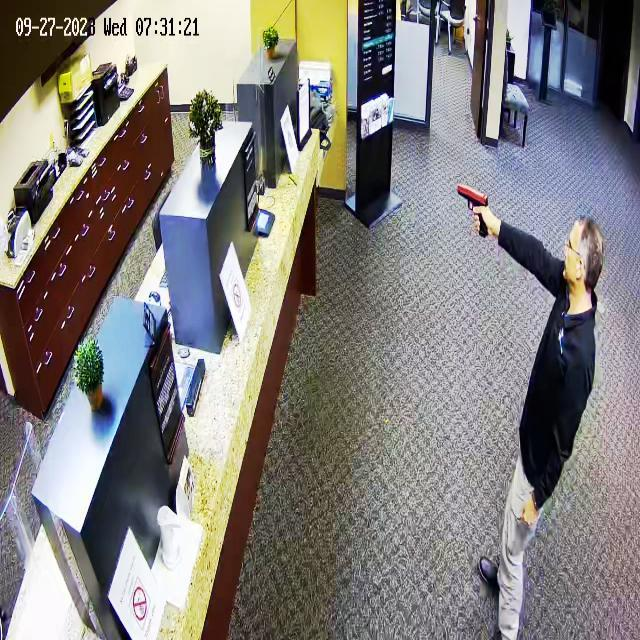Gun: (441, 172, 496, 238)
